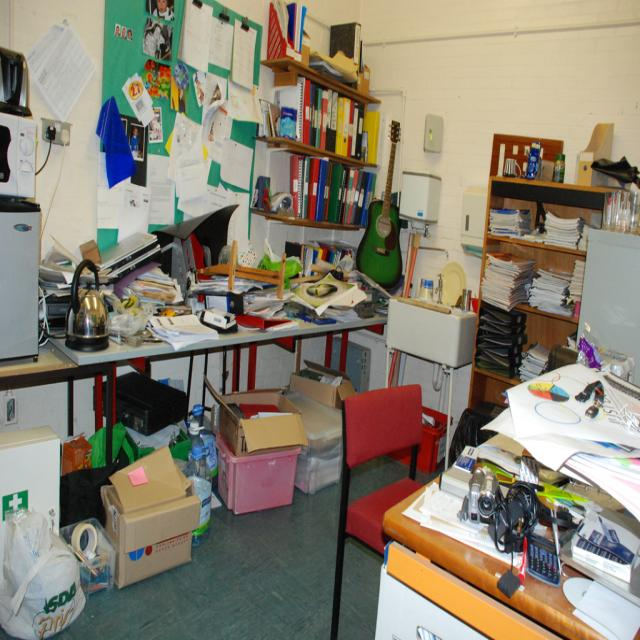Box: (99, 448, 198, 591), (202, 379, 306, 452), (220, 438, 304, 508), (291, 361, 357, 407)
